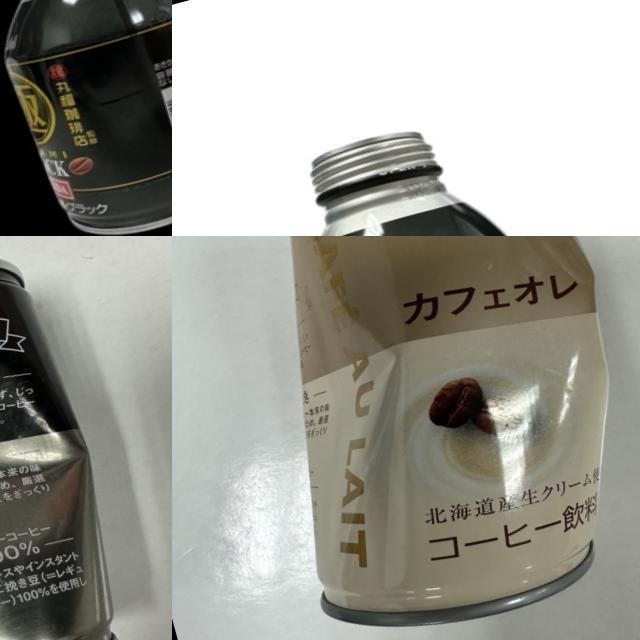Can: (236, 236, 640, 640), (0, 236, 144, 640), (243, 97, 575, 236), (0, 0, 172, 236)
